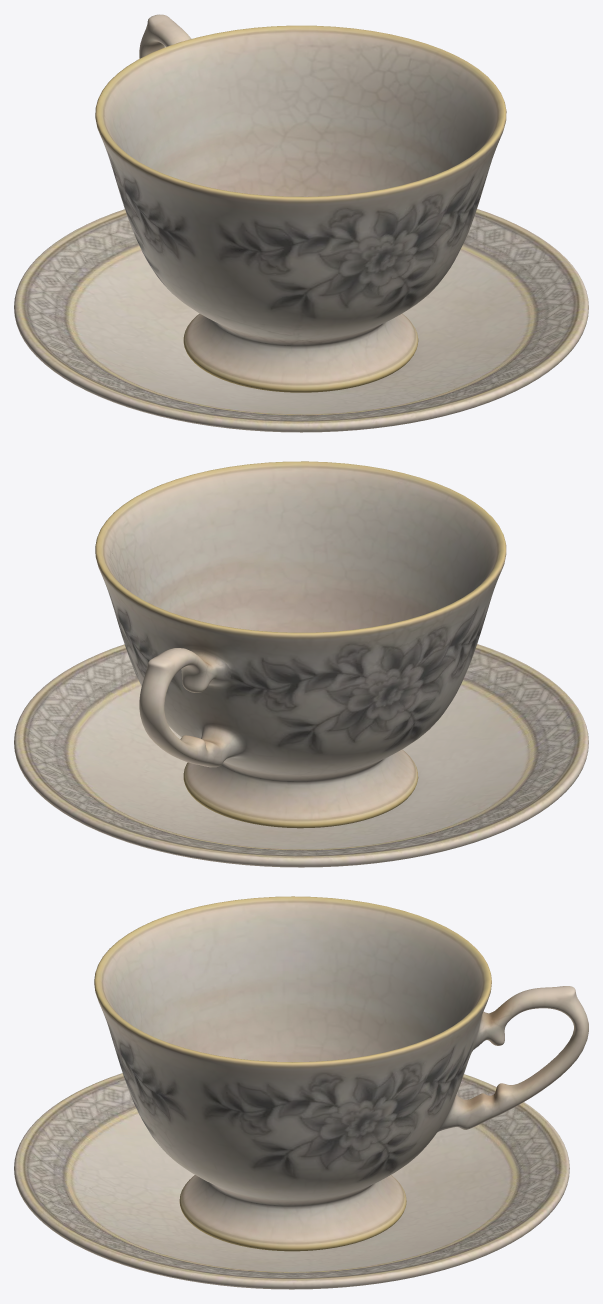
Rendered from teacup.glb.
The picture shows the model from 3 angles, top to bottom: view 1: azimuth 30°, elevation 25°; view 2: azimuth 150°, elevation 25°; view 3: azimuth 270°, elevation 25°; orthographic projection. The views are drawn at different scales.
Visible parts, largest first — view 1: tea_cup, tea_saucer; view 2: tea_cup, tea_saucer; view 3: tea_cup, tea_saucer.
Part boxes in pixels (x1,y1,x2,y2): tea_cup: [95, 14, 506, 392]; tea_saucer: [14, 209, 588, 432]; tea_cup: [95, 461, 506, 828]; tea_saucer: [14, 644, 588, 867]; tea_cup: [94, 896, 588, 1251]; tea_saucer: [14, 1073, 569, 1289].
Bounding box in the file's own units: 0.1486 × 0.0704 × 0.1537.
2 materials, 2 textured.
